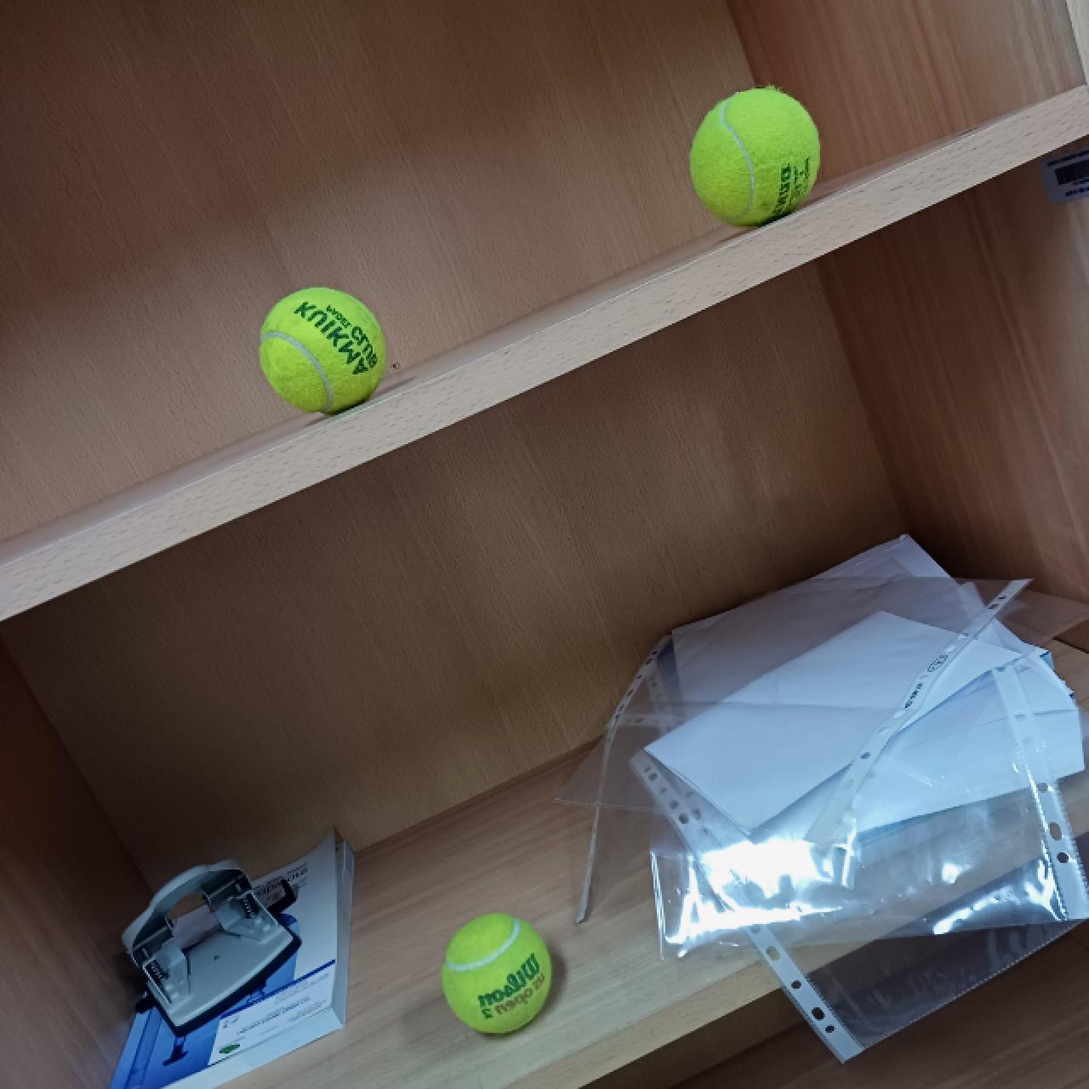tennis-ball: (684, 87, 820, 226), (255, 286, 390, 416), (438, 914, 557, 1036)
